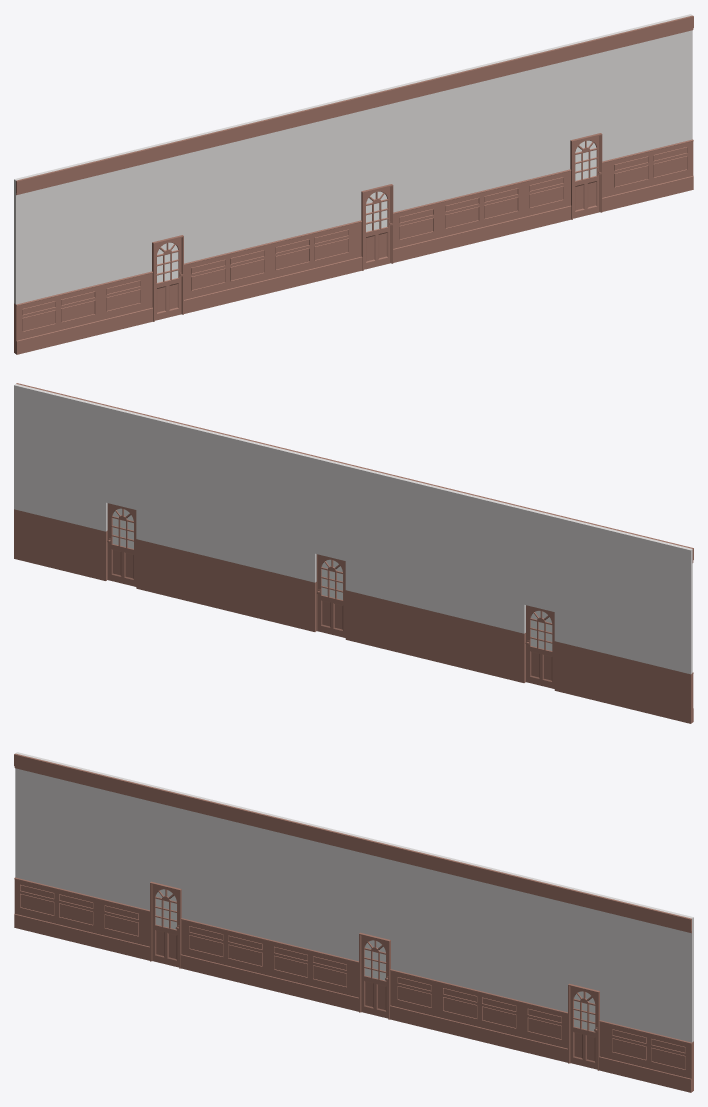
The model's file is 896_wall_with_waistwall_with_door.glb.
3 views of the same model, one above another, from view 1: azimuth 30°, elevation 25°; view 2: azimuth 150°, elevation 25°; view 3: azimuth 330°, elevation 25° (orthographic).
Visible parts, largest first — view 1: body, door3, door2, door1; view 2: body, door1, door3, door2; view 3: body, door3, door2, door1.
Part boxes in pixels (bbox=[...]): body: bbox=[14, 14, 693, 354]; door3: bbox=[154, 238, 183, 320]; door2: bbox=[363, 187, 392, 269]; door1: bbox=[573, 136, 601, 218]; body: bbox=[14, 383, 693, 723]; door1: bbox=[107, 503, 136, 586]; door3: bbox=[525, 605, 554, 688]; door2: bbox=[316, 554, 345, 637]; body: bbox=[14, 752, 693, 1092]; door3: bbox=[152, 884, 179, 967]; door2: bbox=[361, 935, 388, 1018]; door1: bbox=[570, 986, 597, 1069].
Size of the model in its own units: 20 by 4.9 by 0.2172.
